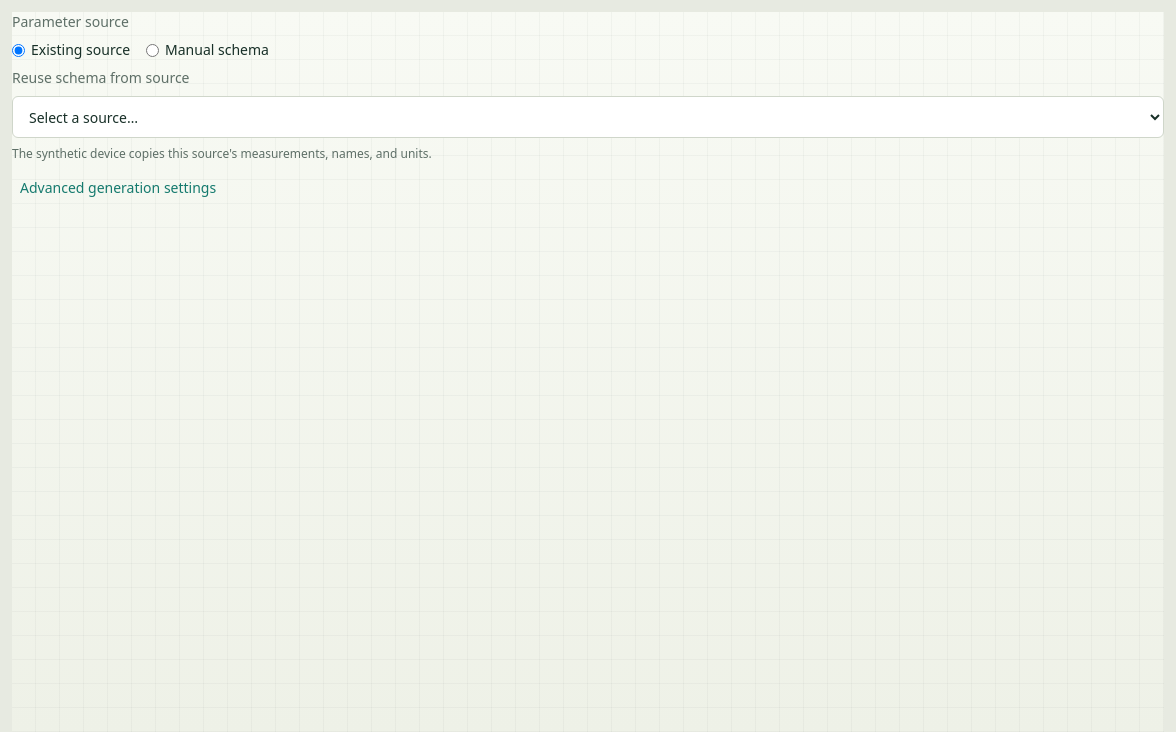
Test: SyntheticProfileStep — Pattern select progressive disclosure (UI-483) › auto-expands a row whose pattern was already advanced without the user ever clicking Show more
Select "Source 1" in the dropdown labelled "Reuse schema from source" at [588, 117], box [12, 96, 1164, 138]
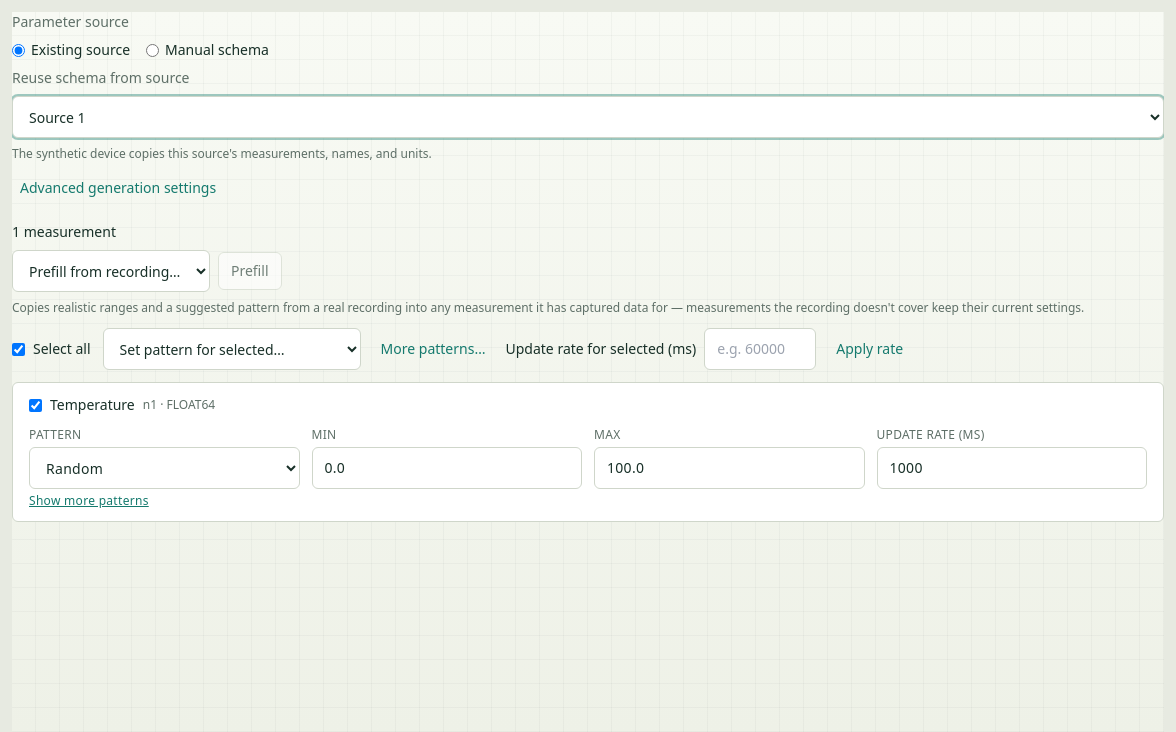
expect the dropdown labelled "Pattern Show more patterns" is shown: met, box [29, 447, 300, 489]
Select "rec1 · 5 values" in the dropdown named "Prefill from recording" at [111, 271], box [12, 250, 210, 292]
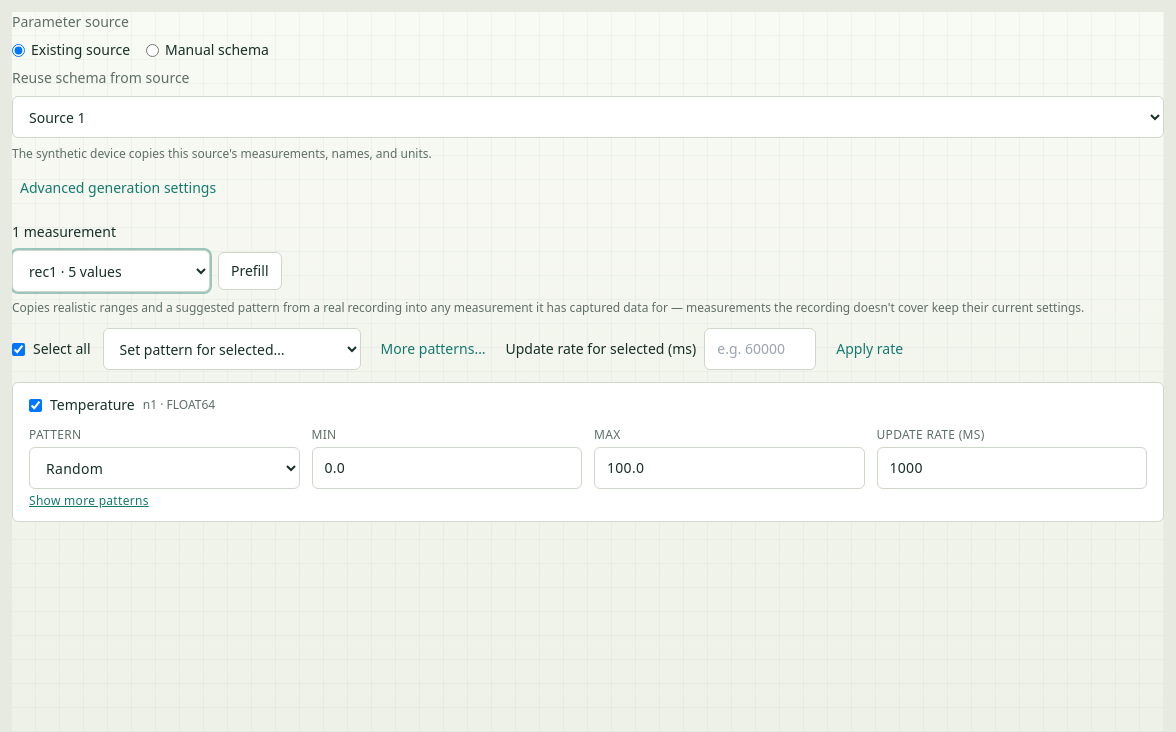
Click the button "Prefill" at [250, 271], box [218, 252, 282, 290]
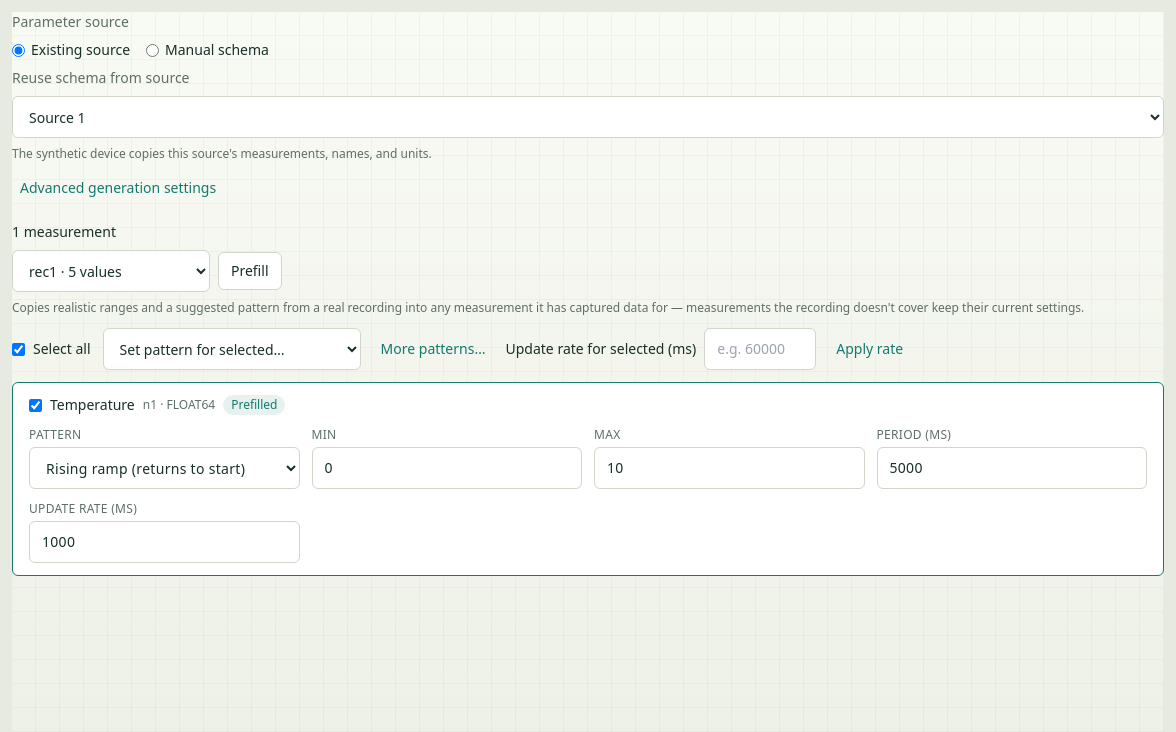
expect the dropdown labelled "Pattern" shows "Rising ramp (returns to start)": met, box [29, 447, 300, 489]
expect the button "Show more patterns" is gone: met
